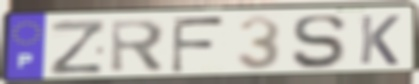3: (235, 13, 283, 73)
F: (168, 16, 228, 75)
K: (357, 14, 402, 67)
R: (109, 18, 169, 75)
S: (290, 13, 348, 71)
Z: (48, 19, 108, 77)
